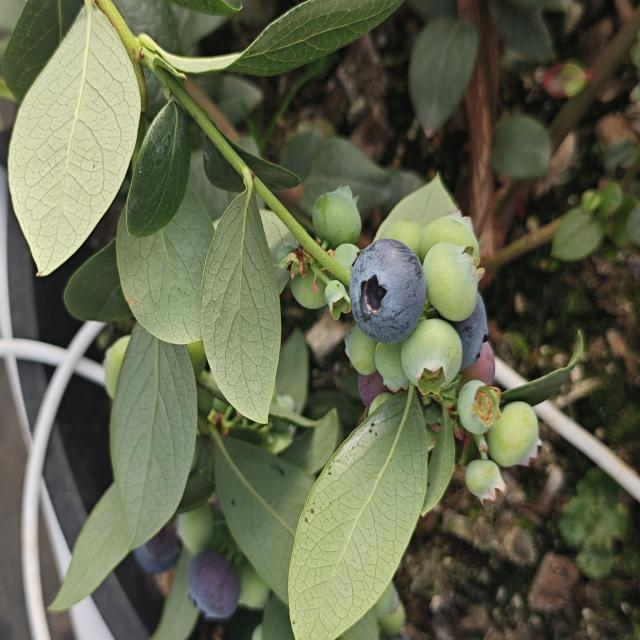ripe: (346, 231, 428, 342), (434, 285, 494, 375), (185, 538, 244, 628), (130, 526, 183, 577)
